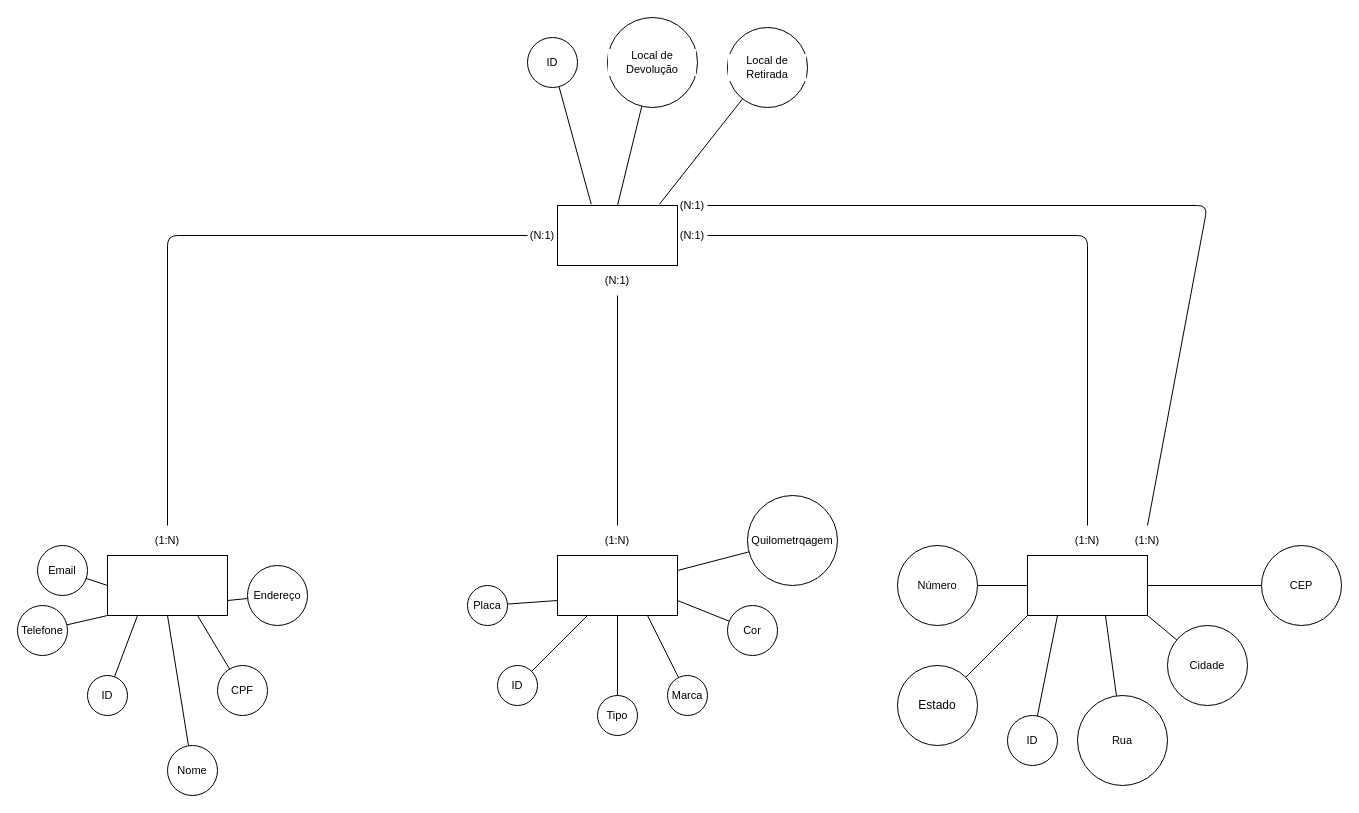
This 1359x813 diagram has some shape labels left out. Here are the shapes that lost their labels. From the top down, the box of each, then its label:
(556, 204, 678, 266): Contrato de Aluguel
(106, 554, 228, 616): Cliente
(556, 554, 678, 616): Veículo
(1026, 554, 1148, 616): Local
